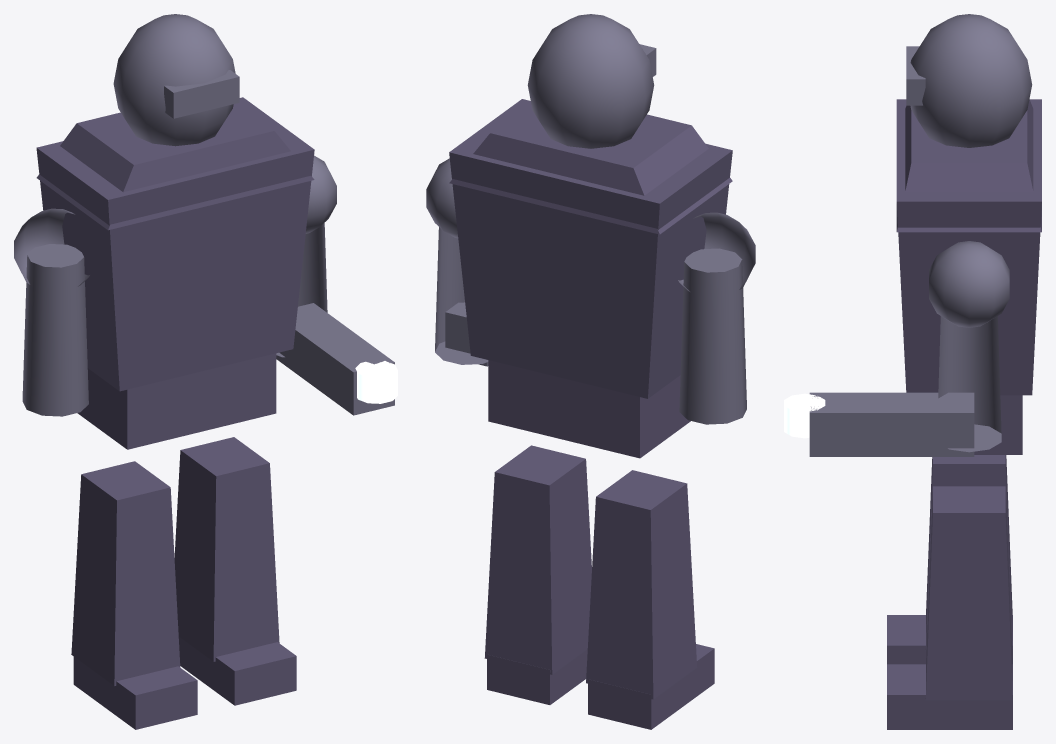
Rendered from enemy_gunner.glb.
The picture shows the model from 3 angles, left to right: view 1: azimuth 30°, elevation 25°; view 2: azimuth 150°, elevation 25°; view 3: azimuth 270°, elevation 25°; orthographic projection.
Parts seen in each view (by area): view 1: torso, leg_l, leg_r, head, arm_l, arm_r, muzzle; view 2: torso, leg_l, leg_r, head, arm_l, arm_r; view 3: torso, leg_r, arm_r, head, leg_l, muzzle.
Boxes of the visible parts, left/top/right/bottom form: torso: left=36, top=97, right=314, bottom=449; leg_l: left=71, top=461, right=197, bottom=729; leg_r: left=174, top=437, right=296, bottom=705; head: left=113, top=14, right=239, bottom=146; arm_l: left=14, top=208, right=89, bottom=416; arm_r: left=276, top=155, right=394, bottom=415; muzzle: left=355, top=361, right=397, bottom=403; torso: left=449, top=99, right=732, bottom=458; leg_l: left=586, top=470, right=714, bottom=729; leg_r: left=484, top=445, right=591, bottom=704; head: left=527, top=14, right=656, bottom=148; arm_l: left=678, top=212, right=755, bottom=424; arm_r: left=426, top=158, right=488, bottom=366; torso: left=896, top=99, right=1041, bottom=454; leg_r: left=887, top=486, right=1012, bottom=729; arm_r: left=809, top=241, right=1009, bottom=456; head: left=906, top=14, right=1032, bottom=147; leg_l: left=887, top=455, right=1012, bottom=664; muzzle: left=784, top=393, right=825, bottom=438.
Size of the model in its own units: 0.7555 by 1.53 by 0.5328.
